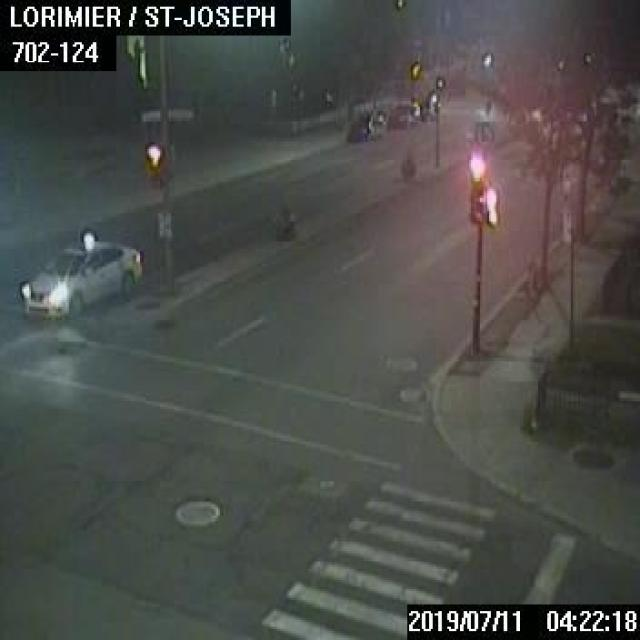vehicle: (22, 232, 140, 320), (345, 109, 384, 142), (388, 104, 414, 128)
